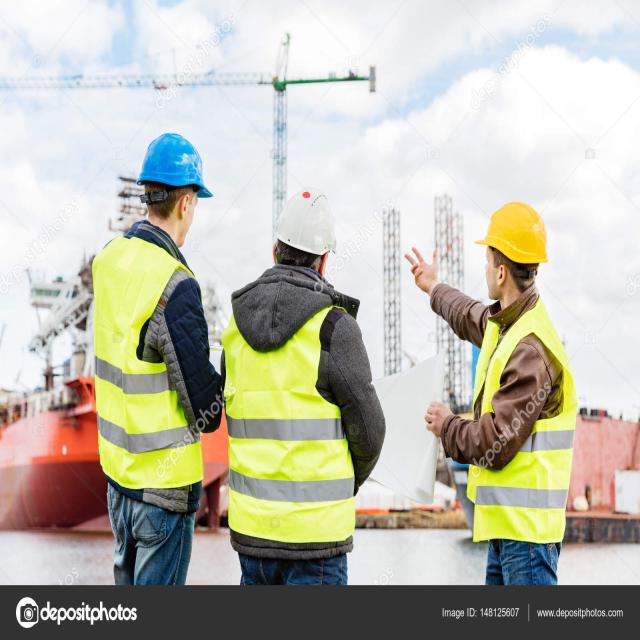helmet: (468, 178, 553, 296), (128, 121, 214, 219), (261, 176, 344, 277)
vest: (222, 293, 362, 562), (85, 231, 207, 508), (467, 308, 575, 564)
